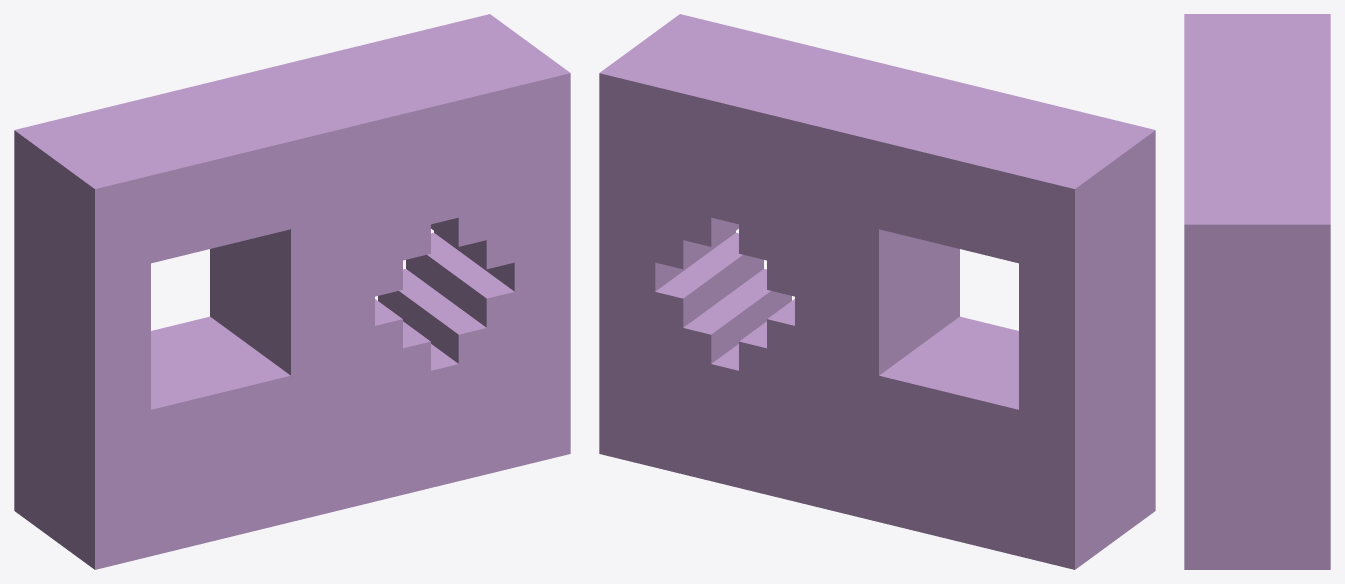
The model's file is alien-biosphere-mineral-window-0fc9fa9b__22741.glb.
The picture shows the model from 3 angles, left to right: view 1: azimuth 30°, elevation 25°; view 2: azimuth 150°, elevation 25°; view 3: azimuth 270°, elevation 25°; orthographic projection. The views are drawn at different scales.
Parts seen in each view (by area): view 1: mineral-window; view 2: mineral-window; view 3: mineral-window.
Part boxes in pixels (x1,y1,x2,y2): mineral-window: (14,14,570,569); mineral-window: (599,14,1155,569); mineral-window: (1184,14,1330,569).
Bounding box in the file's own units: 3.4 × 2.6 × 1.
